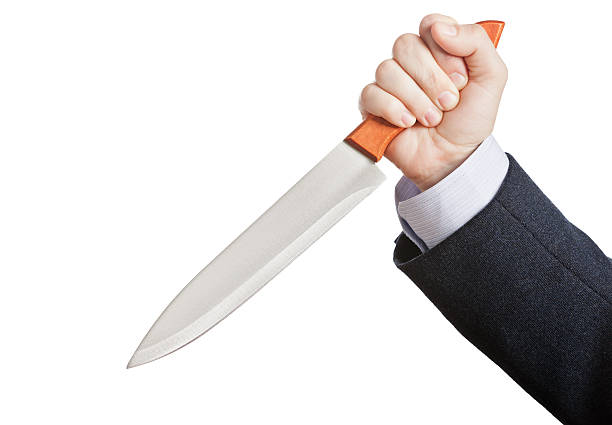knife: (123, 17, 508, 371)
